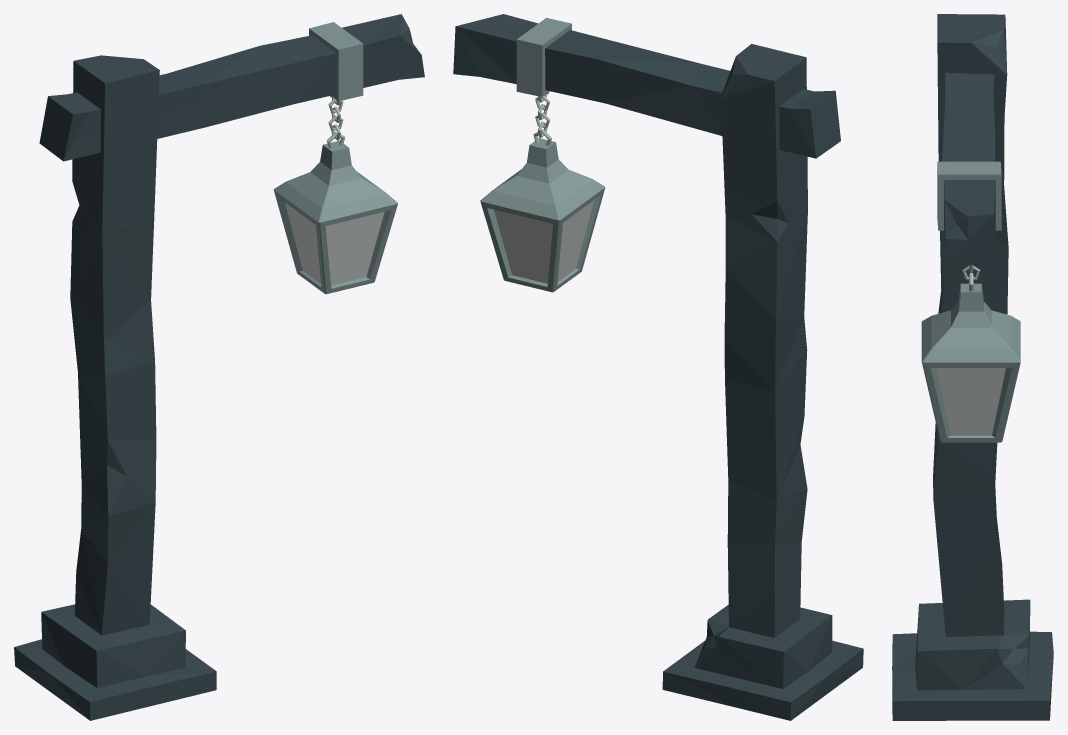
The model's file is Lantern.fbx.
The picture shows the model from 3 angles, left to right: view 1: azimuth 30°, elevation 25°; view 2: azimuth 150°, elevation 25°; view 3: azimuth 270°, elevation 25°; orthographic projection. The views are drawn at different scales.
Visible parts, largest first — view 1: Lantern; view 2: Lantern; view 3: Lantern.
Boxes of the visible parts, box(x1,y1,x2,y2) form: Lantern: box(14, 14, 424, 720); Lantern: box(453, 14, 863, 720); Lantern: box(892, 14, 1053, 720).
Bounding box in the file's own units: 584 × 945 × 210.
